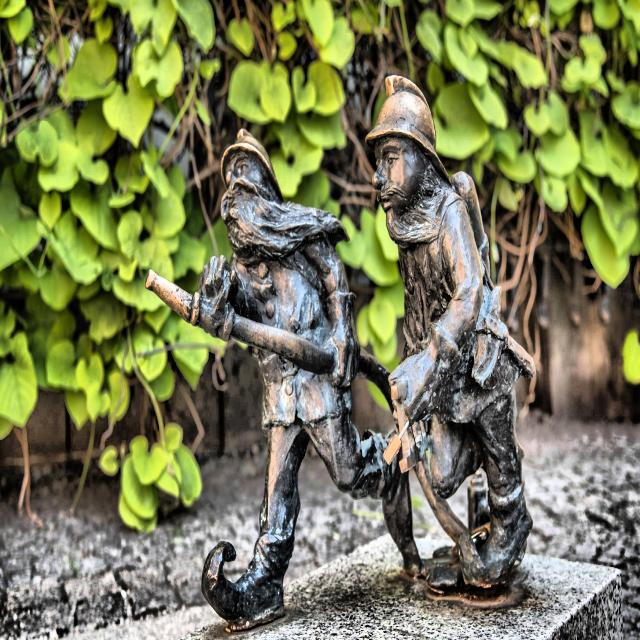Pozarki: (147, 75, 537, 624)
